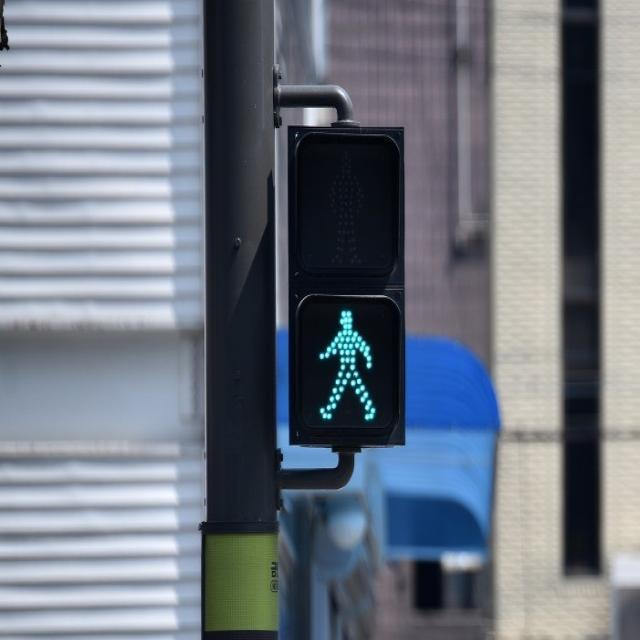green_light: (308, 308, 386, 430)
